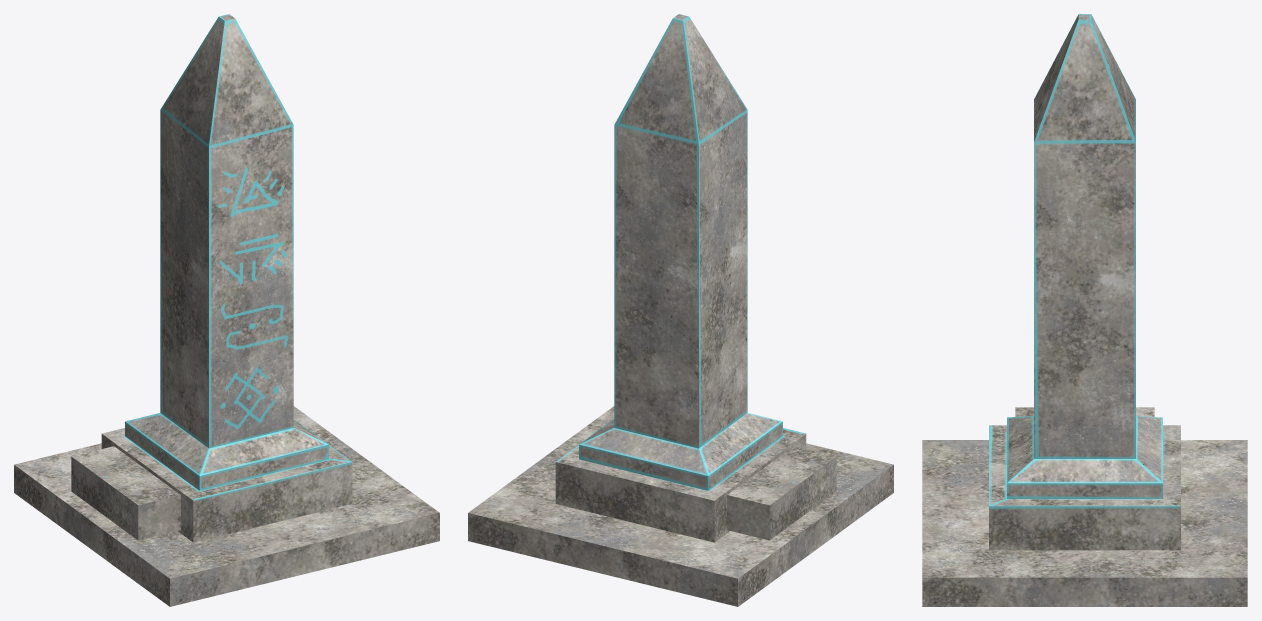
The model's file is obelisk.fbx.
The picture shows the model from 3 angles, left to right: view 1: azimuth 30°, elevation 25°; view 2: azimuth 150°, elevation 25°; view 3: azimuth 270°, elevation 25°; orthographic projection. The views are drawn at different scales.
Visible parts, largest first — view 1: pCube1; view 2: pCube1; view 3: pCube1.
Part boxes in pixels (left/top/right/bottom): pCube1: left=14, top=14, right=439, bottom=606; pCube1: left=468, top=14, right=893, bottom=606; pCube1: left=922, top=14, right=1247, bottom=606.
Size of the model in its own units: 1869 by 3305 by 1869.
1 material, 1 textured.
